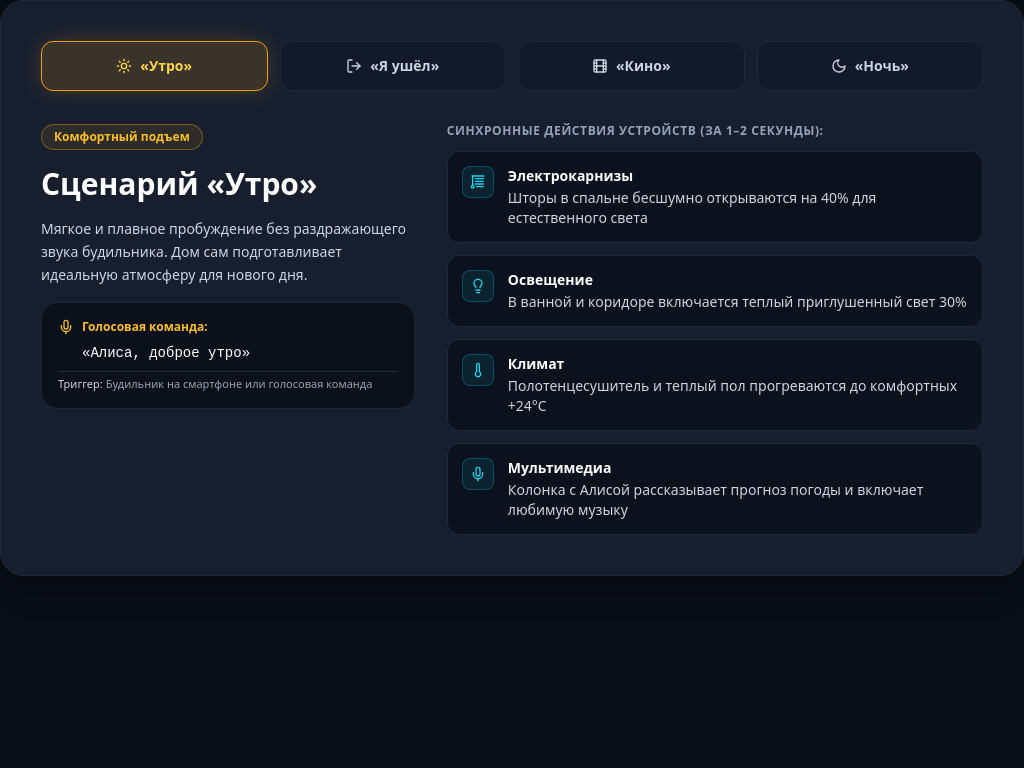
Test case: ScenarioSwitcher Component › switches to "Я ушёл" scenario
What coordinates should you click on to do the following:
click the button "«Я ушёл»"
I would click on:
 (393, 66)
Its box is [280,41,506,91].
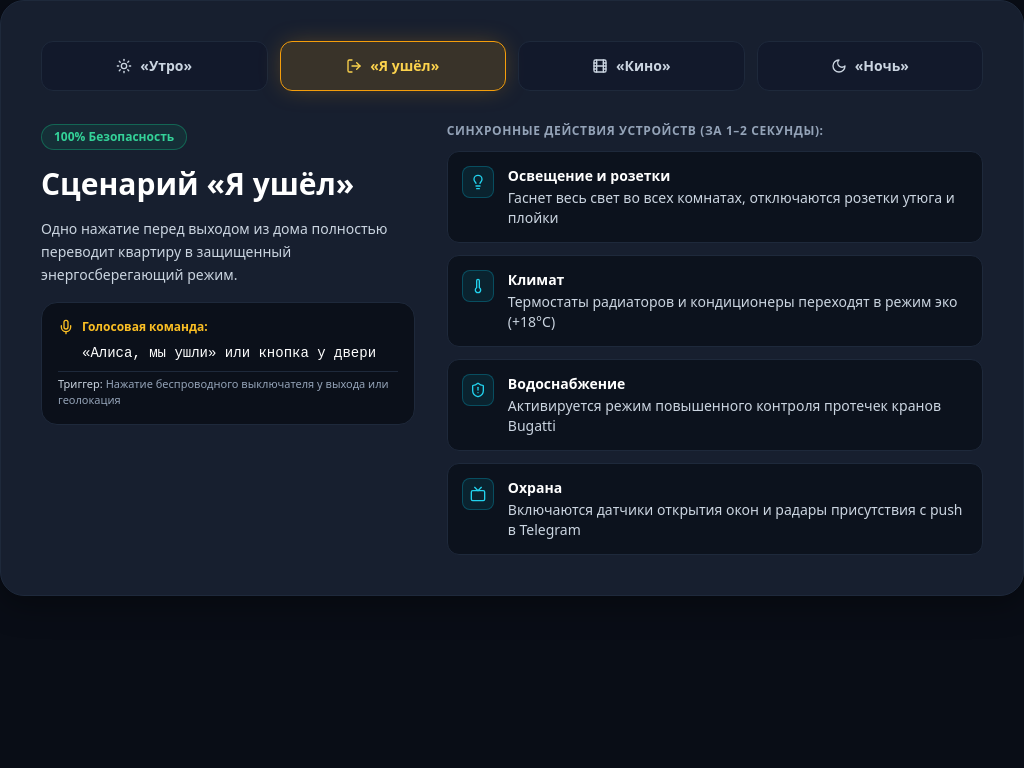
Result: the heading "Сценарий «Я ушёл»" is shown at [41,163,354,204]
Result: the text "«Алиса, мы ушли» или кнопка у двери" is shown at [58,343,398,363]
Result: the text "Гаснет весь свет во всех комнатах" is shown at [508,188,955,227]
